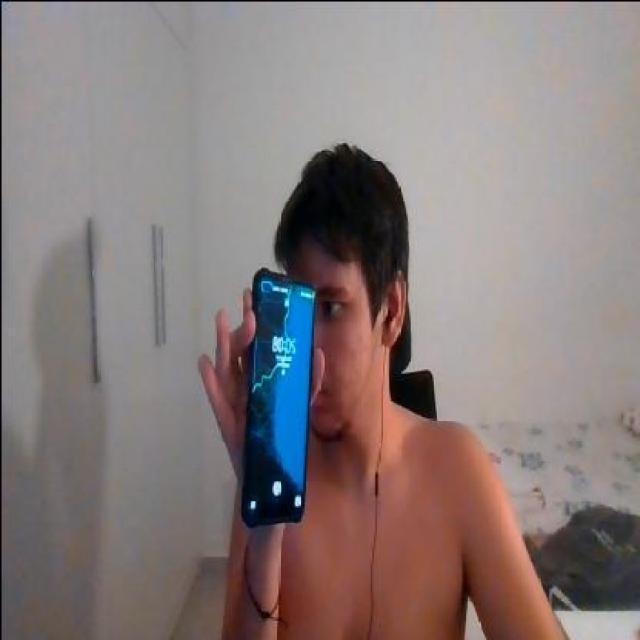phone: (242, 270, 320, 528)
